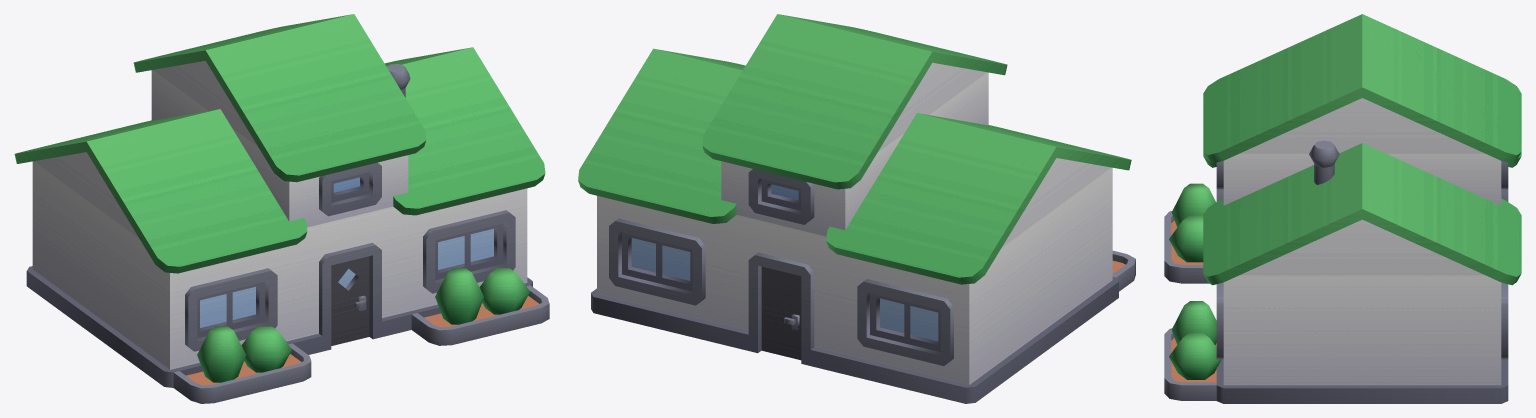
Rendered from building-type-a.glb.
3 views of the same model, side by side, from view 1: azimuth 30°, elevation 25°; view 2: azimuth 150°, elevation 25°; view 3: azimuth 270°, elevation 25° (orthographic). The views are drawn at different scales.
Parts seen in each view (by area): view 1: building-type-a; view 2: building-type-a; view 3: building-type-a.
Boxes of the visible parts, x1=… form: building-type-a: x1=14, y1=14, x2=549, y2=403; building-type-a: x1=578, y1=14, x2=1135, y2=403; building-type-a: x1=1164, y1=14, x2=1521, y2=403.
Bounding box in the file's own units: 1.3 × 0.8335 × 1.03.
Materials: 1 (1 with a texture image).
